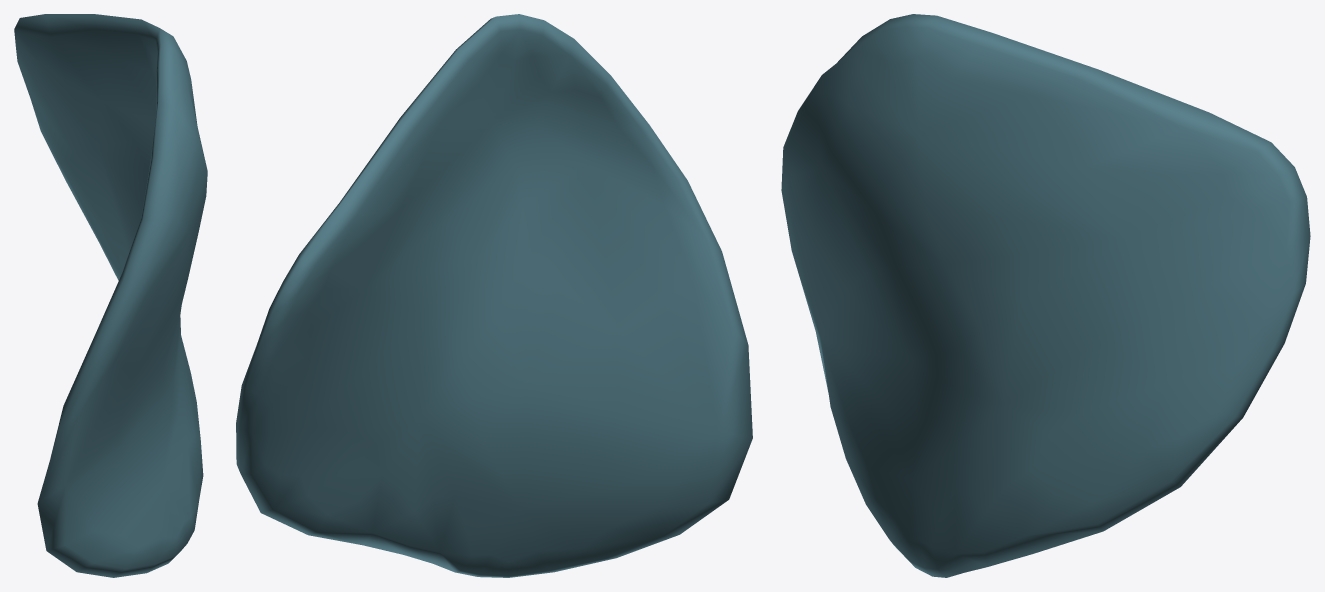
File: Brachioradialis_muscle_on_radial_styloid_process.l_Generated_Me.glb
3 renders of one model, left to right at view 1: azimuth 30°, elevation 25°; view 2: azimuth 150°, elevation 25°; view 3: azimuth 270°, elevation 25°, orthographic. The views are drawn at different scales.
Parts seen in each view (by area): view 1: Brachioradialis_muscle_on_radial_styloid_process.l_Generated; view 2: Brachioradialis_muscle_on_radial_styloid_process.l_Generated; view 3: Brachioradialis_muscle_on_radial_styloid_process.l_Generated.
Boxes of the visible parts, x1,y1,x2,y2 form: Brachioradialis_muscle_on_radial_styloid_process.l_Generated: [14, 14, 207, 577]; Brachioradialis_muscle_on_radial_styloid_process.l_Generated: [236, 14, 752, 577]; Brachioradialis_muscle_on_radial_styloid_process.l_Generated: [781, 14, 1310, 577].
Bounding box in the file's own units: 0.0058 × 0.0101 × 0.00875.
